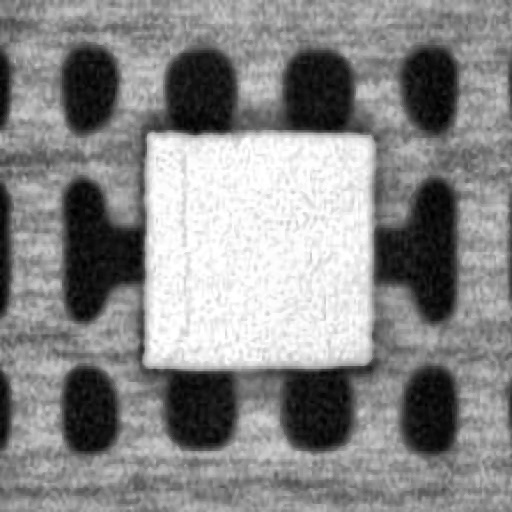DIE_CRACK: (168, 146, 192, 339)
